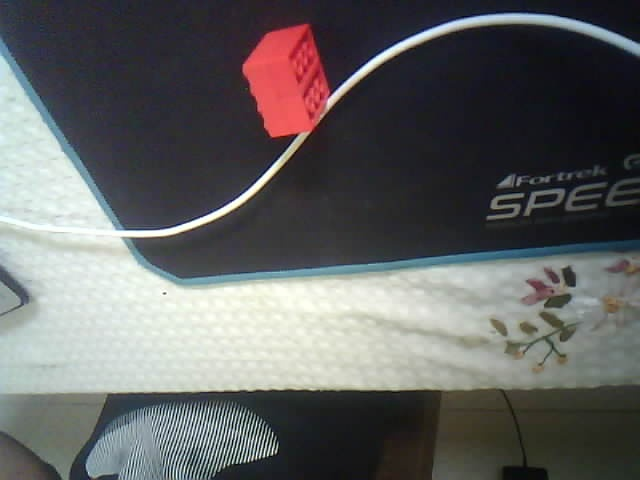lego: (240, 23, 330, 140)
